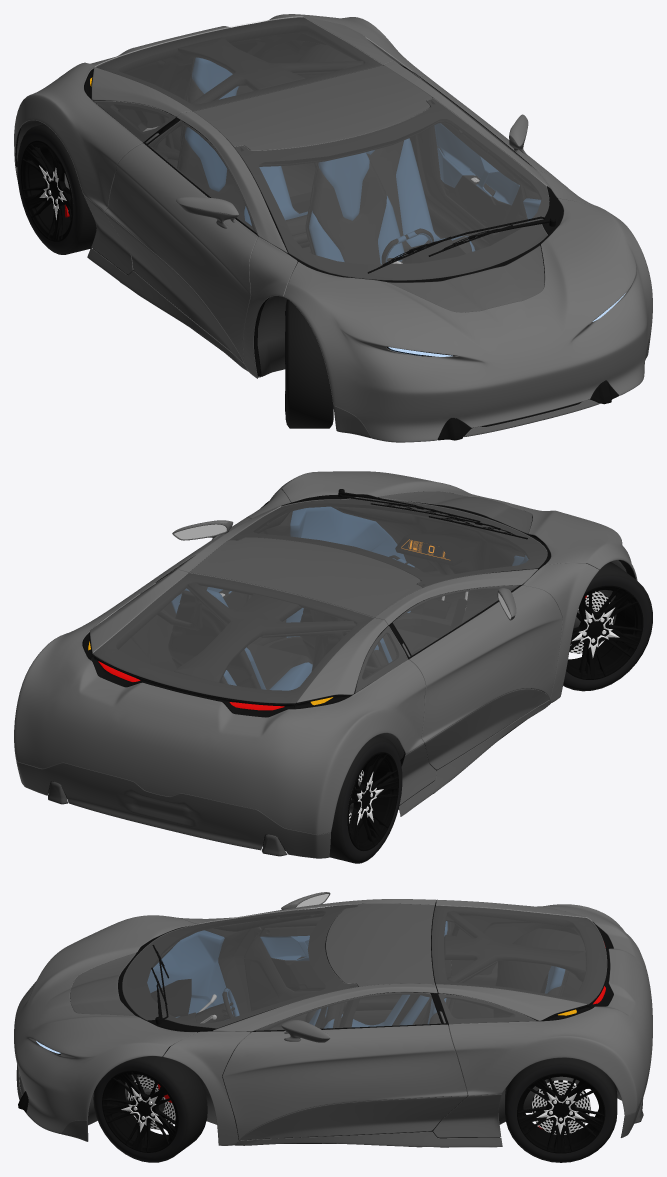
File: carro.glb
3 renders of one model, top to bottom at view 1: azimuth 30°, elevation 25°; view 2: azimuth 150°, elevation 25°; view 3: azimuth 270°, elevation 25°, orthographic. The views are drawn at different scales.
Visible parts, largest first — view 1: BodyHood, BodyWindshield, BodyRearwindow, BodyDoorRColor1, BodyRearPanelsColor1, BodyRoofPanel, BodyWindshieldGasket, InteriorSeatsColor1, InteriorSeatsColor2, BodyPillars, InteriorPillar, InteriorRearHatch (+21 smaller); view 2: BodyRearPanelsColor1, BodyRearwindow, BodyWindshield, BodyPanelsColor2, BodyDoorRColor1, BodyRoofPanel, BodyHood, InteriorRearHatch, BodyPillars, InteriorPillar, BodyWindshieldGasket, InteriorDashMid (+21 smaller); view 3: BodyRearPanelsColor1, BodyWindshield, BodyDoorLColor1, BodyHood, BodyRearwindow, BodyRoofPanel, BodyPillars, BodyWindshieldGasket, BodyDoorLColor2, BodyPanelsColor2, WheelFrontL, InteriorRearHatch (+25 smaller).
Boxes of the visible parts, left/top/right/bottom form: BodyHood: left=283, top=198, right=652, bottom=442; BodyWindshield: left=234, top=98, right=549, bottom=280; BodyRearwindow: left=95, top=16, right=382, bottom=110; BodyDoorRColor1: left=104, top=143, right=257, bottom=362; BodyRearPanelsColor1: left=14, top=14, right=428, bottom=210; BodyRoofPanel: left=193, top=65, right=432, bottom=150; BodyWindshieldGasket: left=234, top=99, right=563, bottom=282; InteriorSeatsColor1: left=185, top=57, right=475, bottom=264; InteriorSeatsColor2: left=180, top=78, right=472, bottom=264; BodyPillars: left=176, top=61, right=598, bottom=378; InteriorPillar: left=158, top=37, right=434, bottom=168; InteriorRearHatch: left=93, top=17, right=383, bottom=117; BodyRearPanelsColor1: left=14, top=569, right=425, bottom=834; BodyRearwindow: left=92, top=573, right=373, bottom=703; BodyWindshield: left=229, top=497, right=547, bottom=587; BodyPanelsColor2: left=16, top=700, right=550, bottom=858; BodyDoorRColor1: left=409, top=585, right=562, bottom=742; BodyRoofPanel: left=189, top=537, right=422, bottom=617; BodyHood: left=279, top=471, right=637, bottom=580; InteriorRearHatch: left=93, top=573, right=386, bottom=707; BodyPillars: left=175, top=489, right=599, bottom=702; InteriorPillar: left=174, top=574, right=417, bottom=682; BodyWindshieldGasket: left=230, top=497, right=550, bottom=587; InteriorDashMid: left=331, top=503, right=528, bottom=622; BodyRearPanelsColor1: left=436, top=899, right=652, bottom=1115; BodyWindshield: left=122, top=904, right=357, bottom=1028; BodyDoorLColor1: left=222, top=1024, right=467, bottom=1139; BodyHood: left=14, top=915, right=196, bottom=1133; BodyRearwindow: left=432, top=905, right=606, bottom=1003; BodyRoofPanel: left=326, top=903, right=434, bottom=986; BodyPillars: left=163, top=899, right=437, bottom=1145; BodyWindshieldGasket: left=118, top=905, right=357, bottom=1032; BodyDoorLColor2: left=240, top=1096, right=467, bottom=1140; BodyPanelsColor2: left=16, top=1050, right=652, bottom=1147; WheelFrontL: left=93, top=1054, right=207, bottom=1162; InteriorRearHatch: left=431, top=905, right=606, bottom=1020.
Bounding box in the file's own units: 2.54 × 1.15 × 4.36.
Materials: 22 (2 with a texture image).
